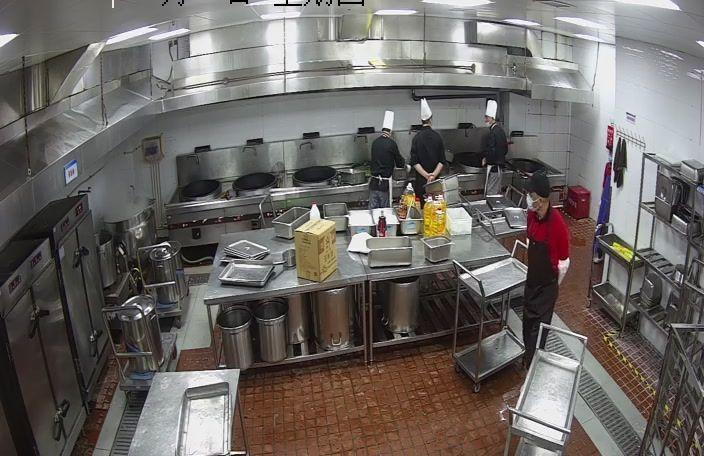mask: (484, 116, 494, 130)
